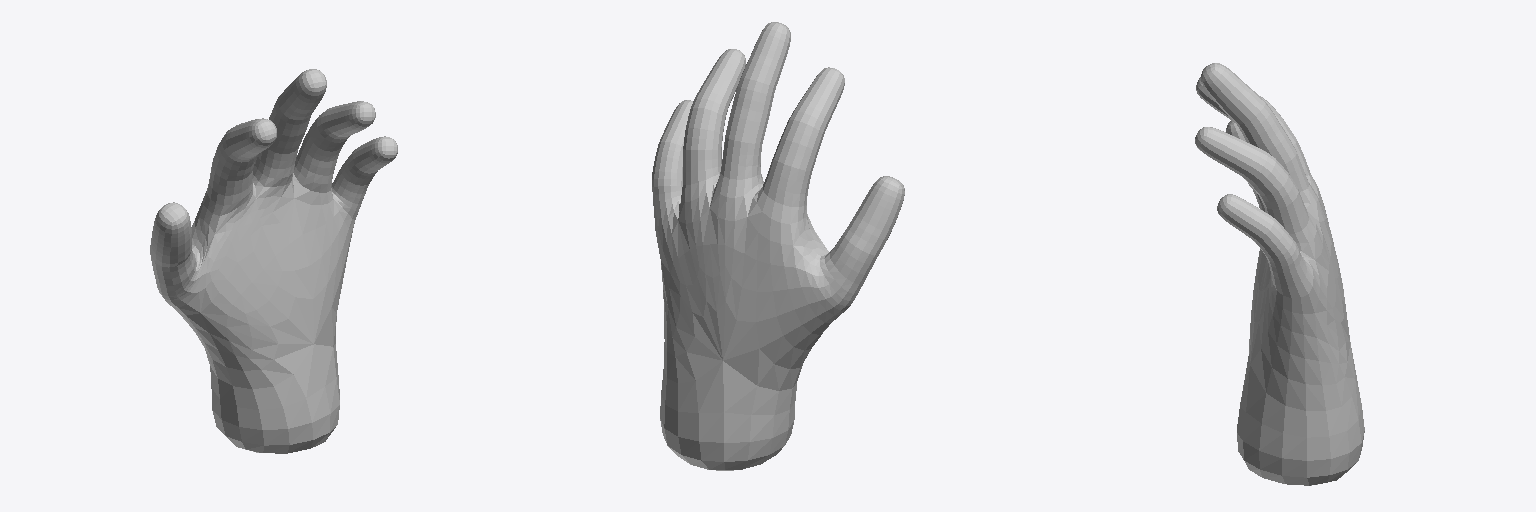
The model's file is handanimatsion12.obj.
3 views of the same model, side by side, from view 1: azimuth 30°, elevation 25°; view 2: azimuth 150°, elevation 25°; view 3: azimuth 270°, elevation 25° (orthographic).
Visible parts, largest first — view 1: Cube; view 2: Cube; view 3: Cube.
Boxes of the visible parts, x1,y1,x2,y2 form: Cube: [150, 69, 397, 453]; Cube: [652, 22, 904, 470]; Cube: [1195, 63, 1364, 485].
Size of the model in its own units: 3.69 by 6.18 by 2.34.